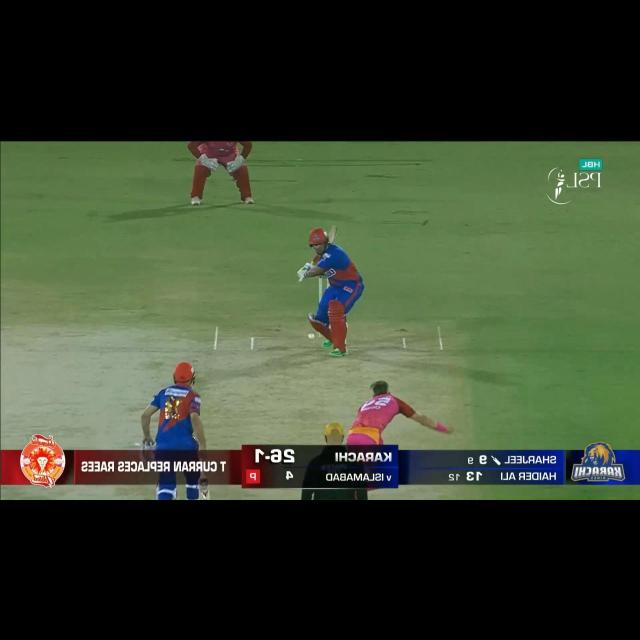toe: (327, 224, 339, 242), (199, 488, 213, 502)
